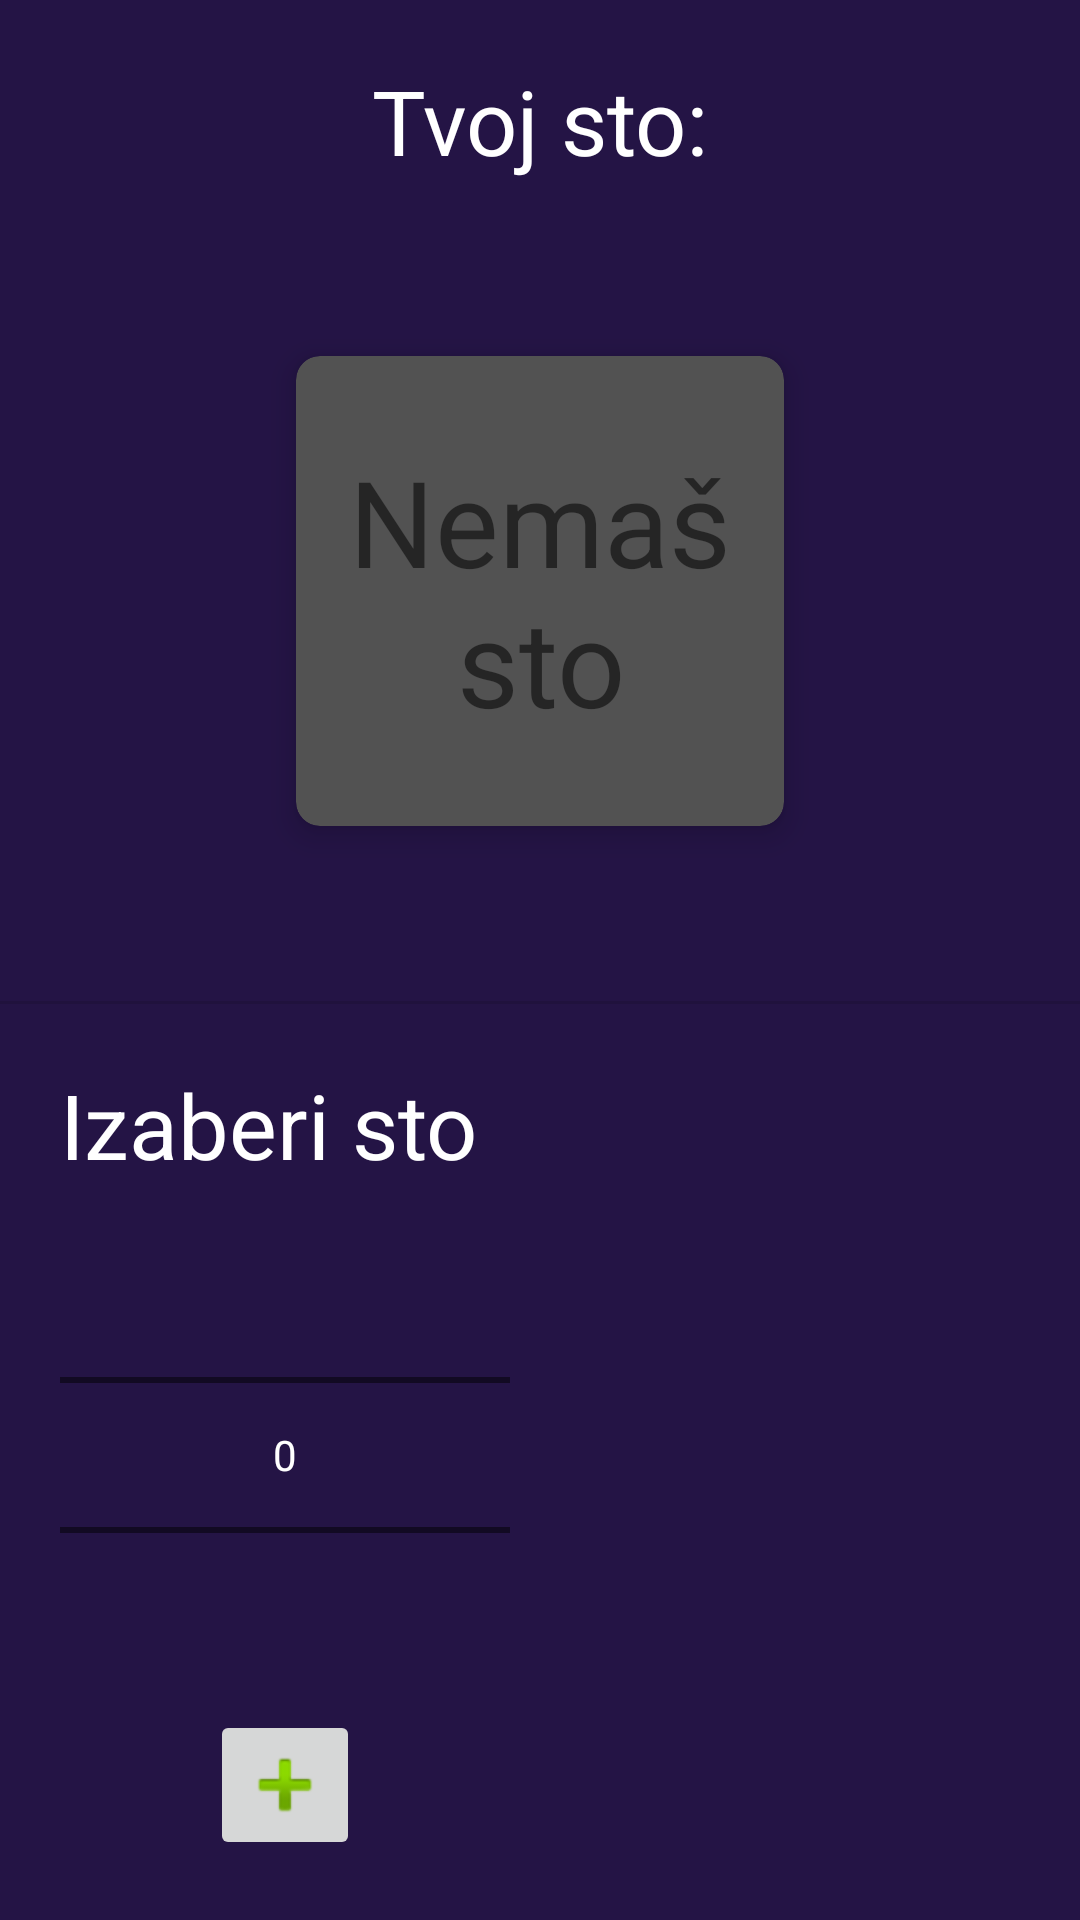

Where to tap for icons on this 1080×1920 app screen, as (x=x, y=y):
add: (x=285, y=1785)
